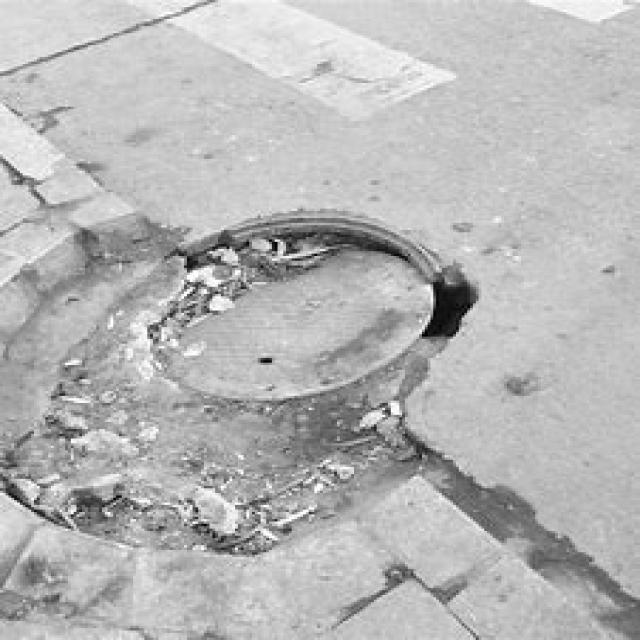manhole: (148, 212, 476, 401)
